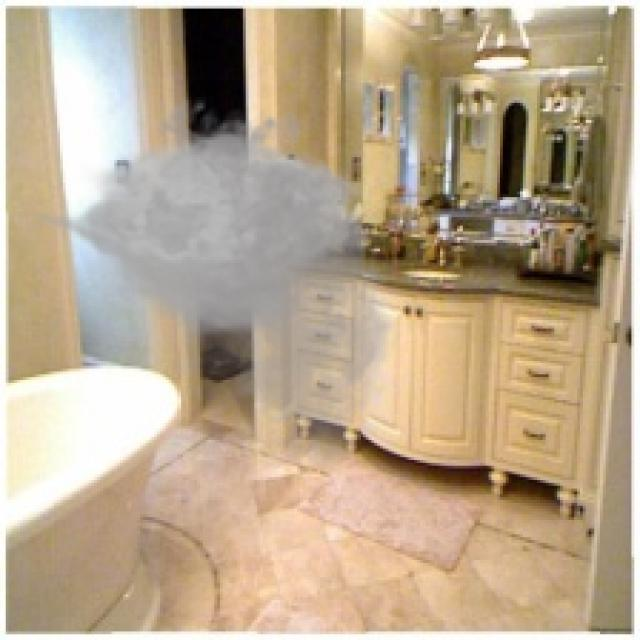Smoke: (26, 86, 412, 474)
